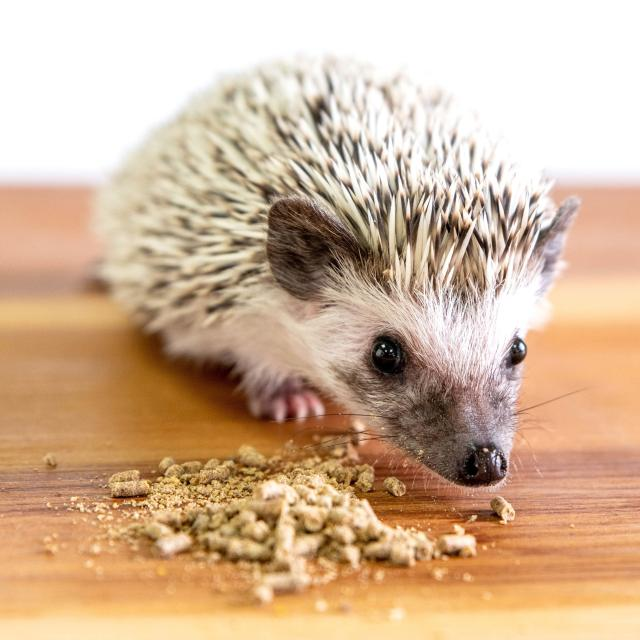Hedgehog: (91, 31, 581, 498)
